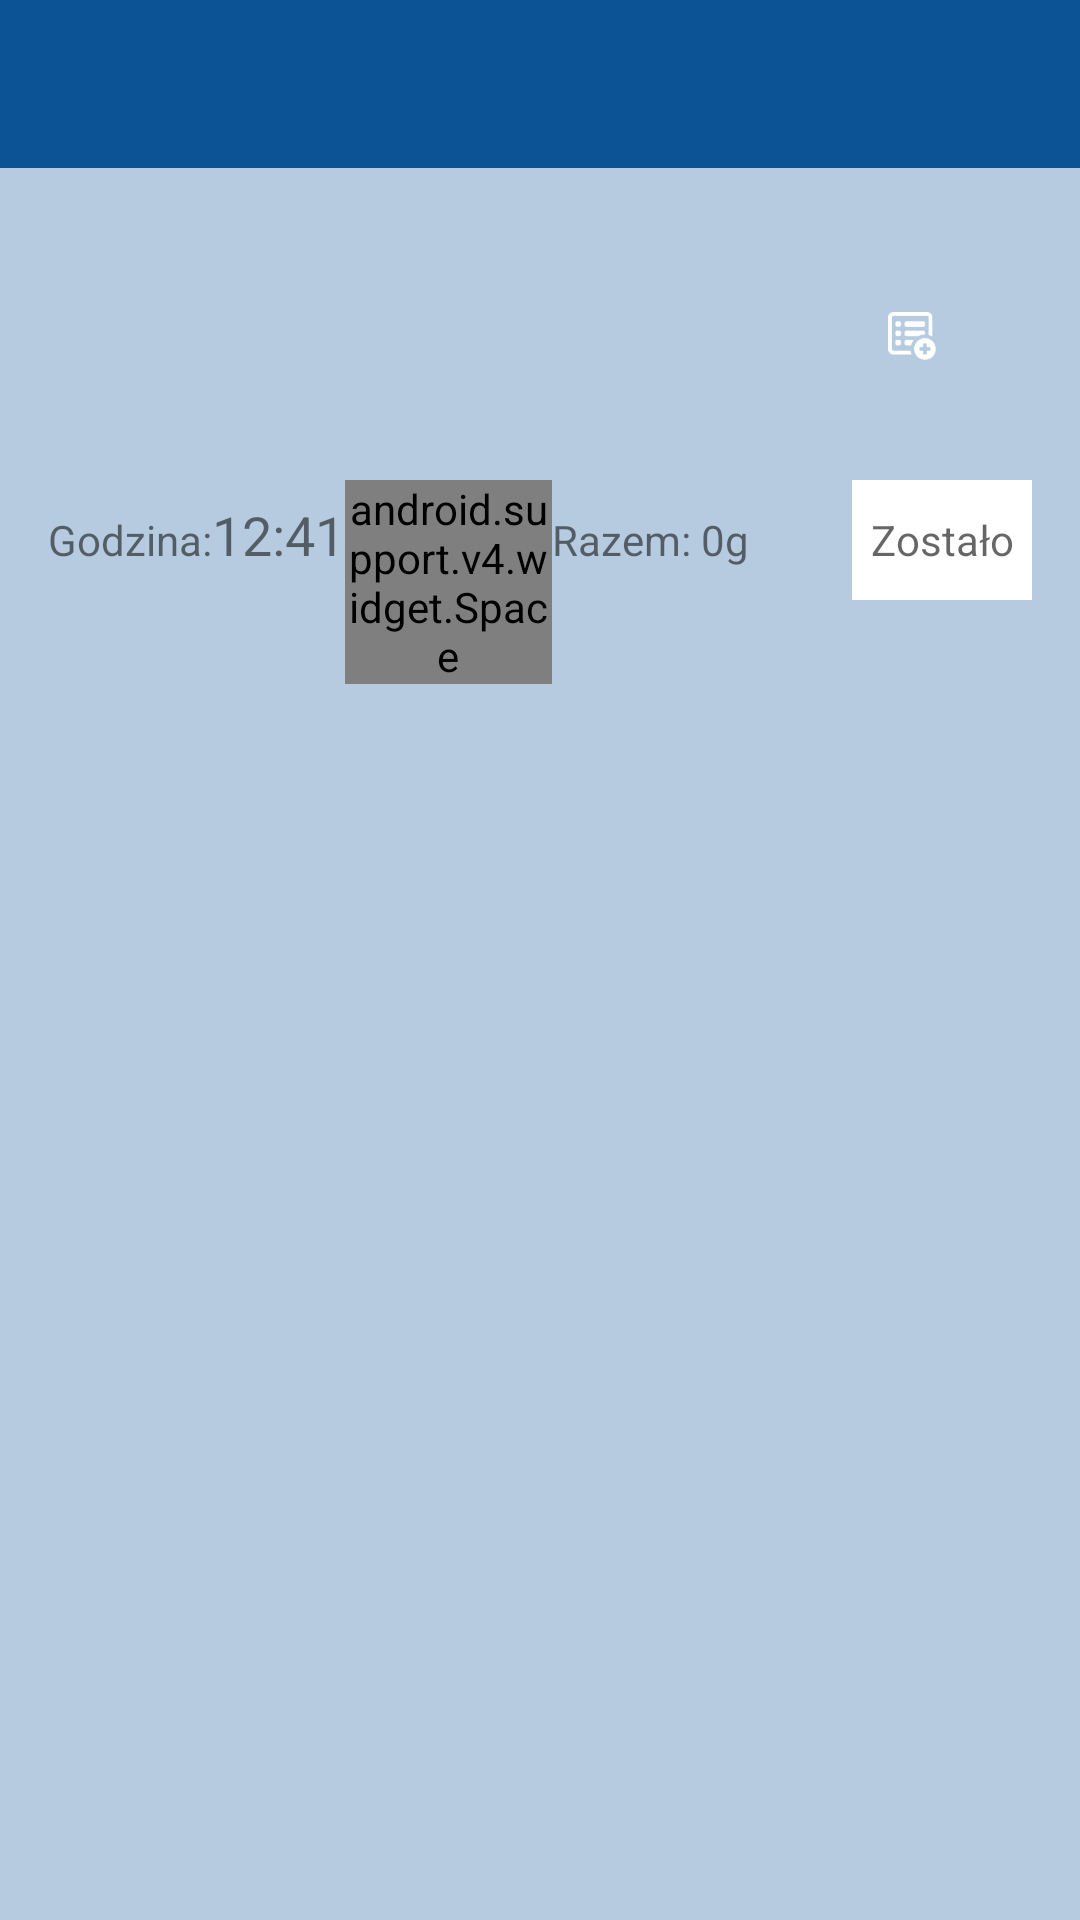

Where icons sit on this 1080w x 1920h app screen, as (x1, y1, x2, y2):
add ingredient: (888, 312, 936, 360)
